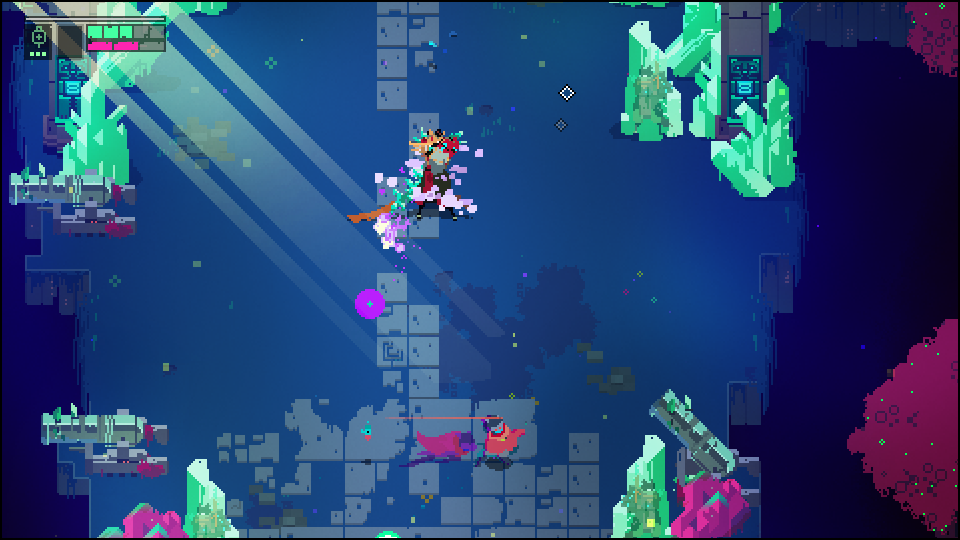hanged_man: (387, 126, 471, 224)
hanged_shot: (353, 288, 386, 319)
player: (483, 416, 524, 469)
